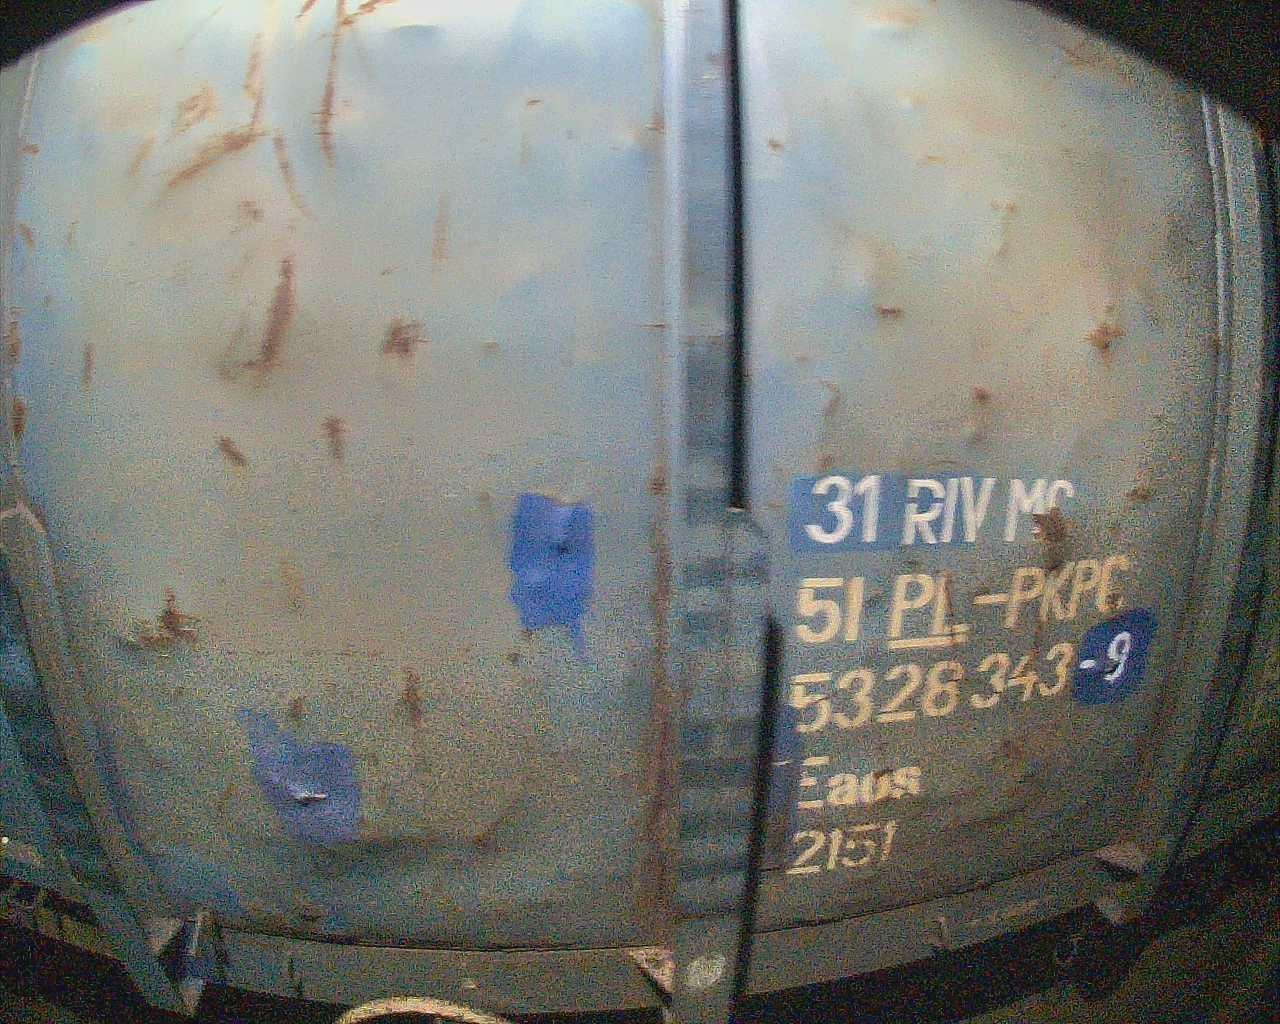UIC: (781, 472, 1134, 880)
